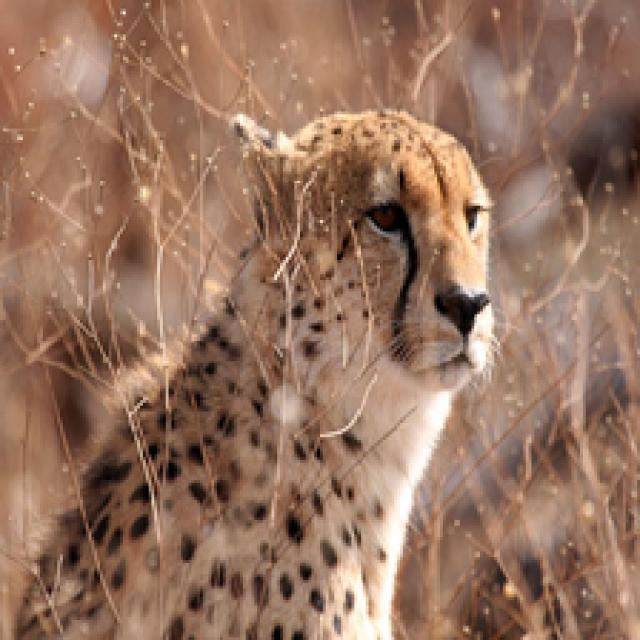cheetah: (1, 80, 526, 640)
